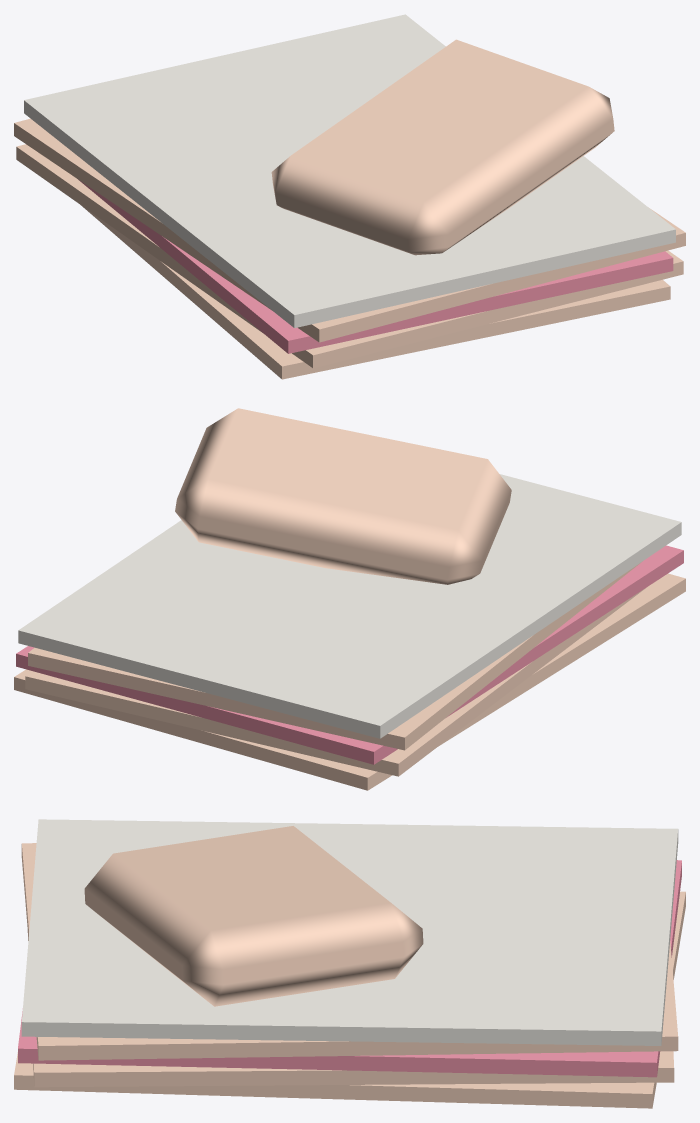
File: station_processing_ausstattung_3_1.glb
The picture shows the model from 3 angles, top to bottom: view 1: azimuth 30°, elevation 25°; view 2: azimuth 150°, elevation 25°; view 3: azimuth 270°, elevation 25°; orthographic projection. The views are drawn at different scales.
Parts seen in each view (by area): view 1: station_processing_ausstattung_3_1; view 2: station_processing_ausstattung_3_1; view 3: station_processing_ausstattung_3_1.
Boxes of the visible parts, box(x1,y1,x2,y2) form: station_processing_ausstattung_3_1: box(14, 14, 685, 379); station_processing_ausstattung_3_1: box(14, 408, 685, 790); station_processing_ausstattung_3_1: box(14, 819, 685, 1108).
Size of the model in its own units: 0.3272 by 0.1123 by 0.42.
